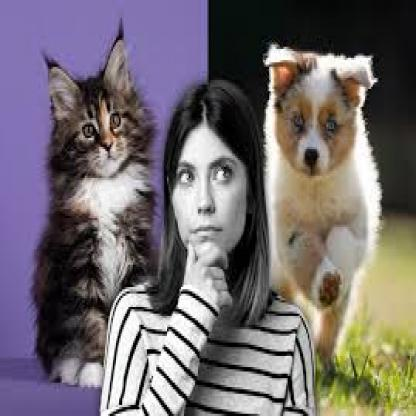cat: (42, 33, 158, 212)
